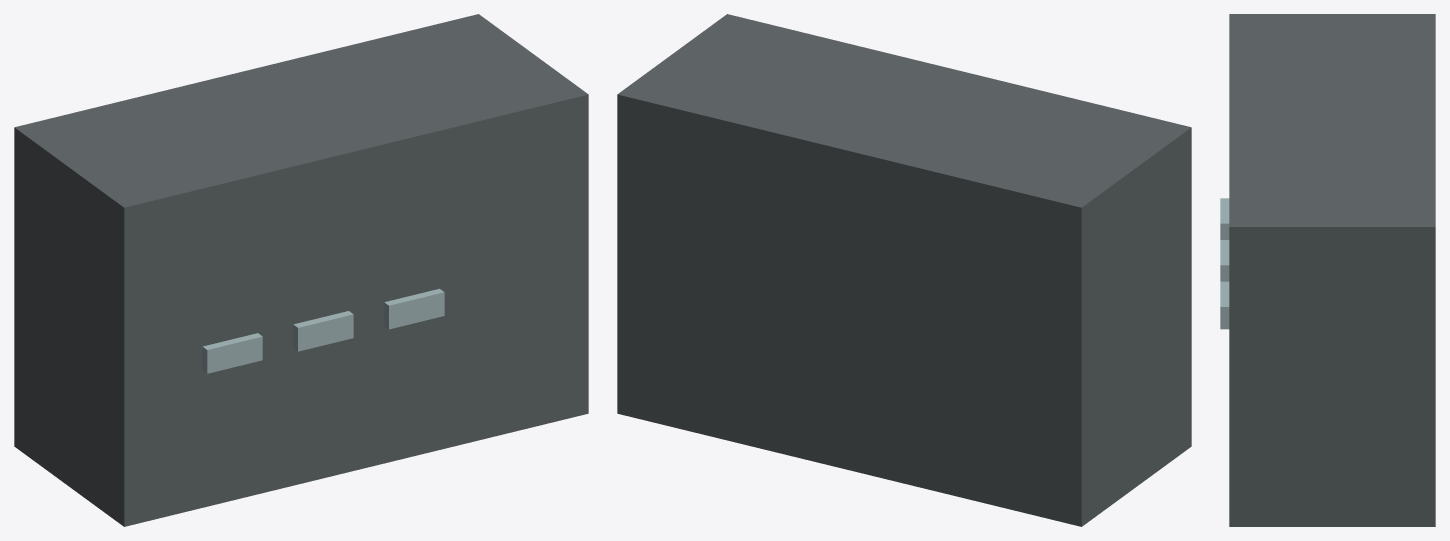
The model's file is sawhorse.glb.
The picture shows the model from 3 angles, left to right: view 1: azimuth 30°, elevation 25°; view 2: azimuth 150°, elevation 25°; view 3: azimuth 270°, elevation 25°; orthographic projection. The views are drawn at different scales.
Size of the model in its own units: 1.29 by 0.846 by 0.551.
1 material, 1 textured.
